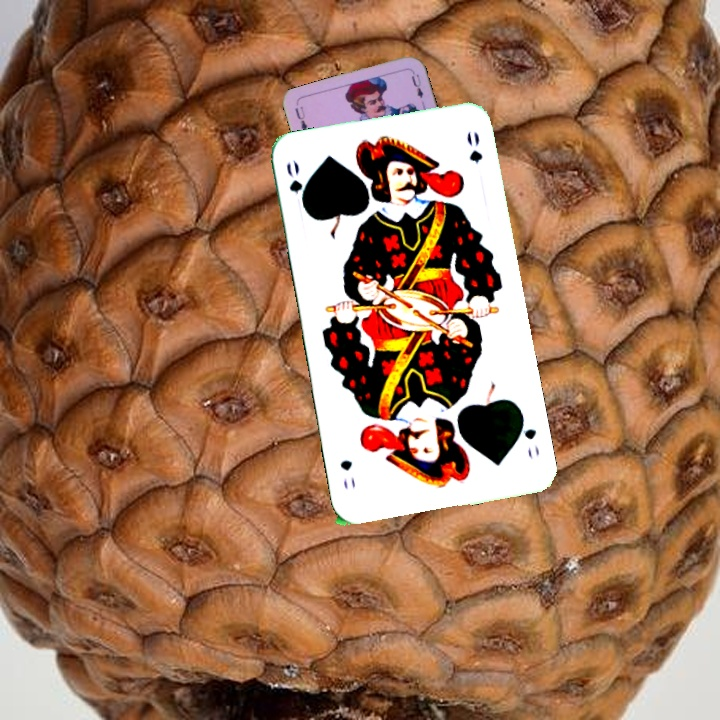EU: (291, 102, 310, 134)
GO: (282, 156, 310, 214), (515, 409, 542, 461)
